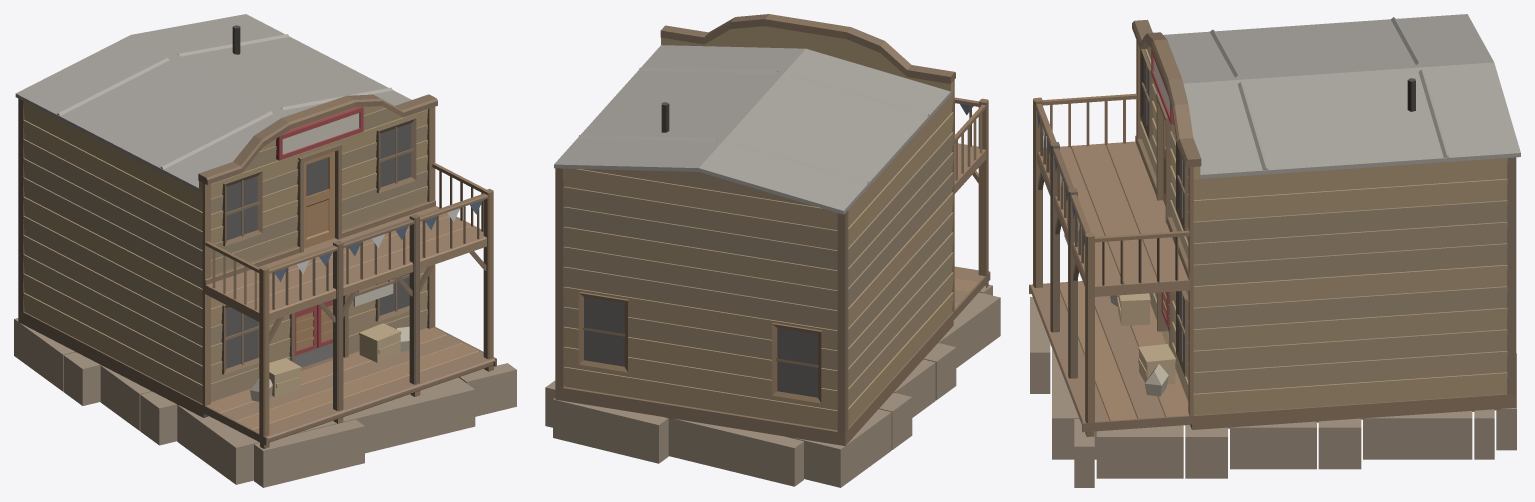
File: house_3.glb
3 renders of one model, left to right at view 1: azimuth 30°, elevation 25°; view 2: azimuth 150°, elevation 25°; view 3: azimuth 270°, elevation 25°, orthographic. The views are drawn at different scales.
Parts seen in each view (by area): view 1: house_3; view 2: house_3; view 3: house_3.
Boxes of the visible parts, x1,y1,x2,y2 form: house_3: [14, 14, 516, 487]; house_3: [545, 14, 1000, 487]; house_3: [1029, 14, 1520, 487].
Size of the model in its own units: 9.48 by 8.5 by 11.07.
